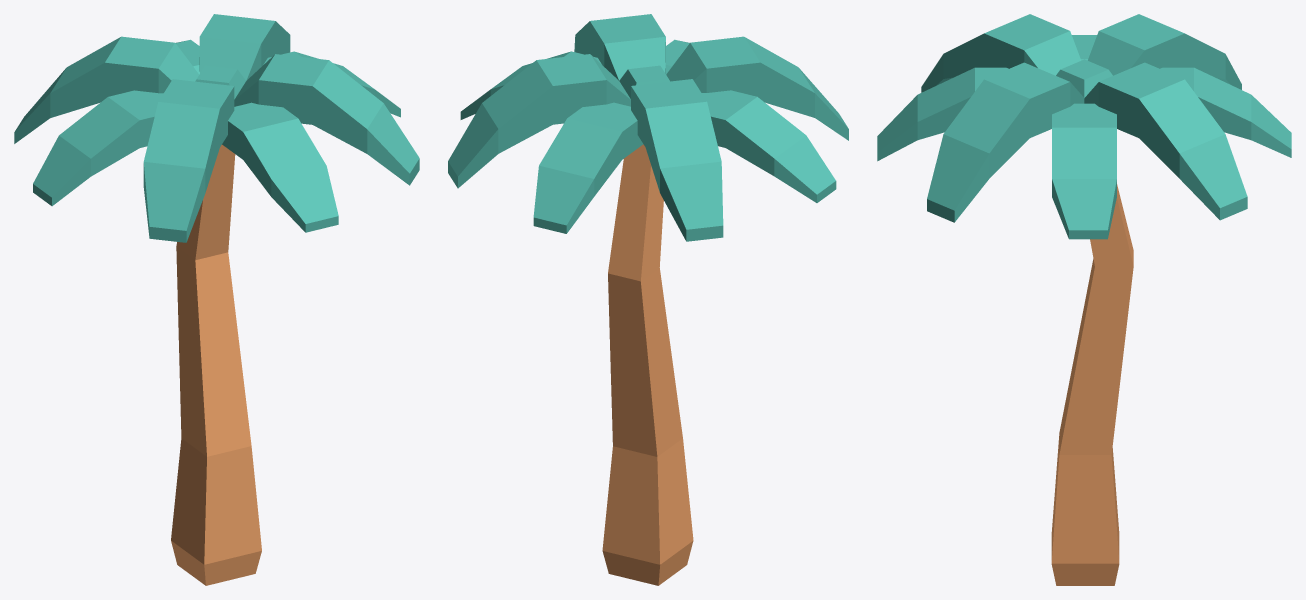
File: palmDetailed_large.fbx
3 views of the same model, side by side, from view 1: azimuth 30°, elevation 25°; view 2: azimuth 150°, elevation 25°; view 3: azimuth 270°, elevation 25° (orthographic).
Visible parts, largest first — view 1: Group 152, Group 150; view 2: Group 152, Group 150; view 3: Group 152, Group 150.
Boxes of the visible parts, box(x1,y1,x2,y2) form: Group 152: box(14, 14, 419, 242); Group 150: box(171, 144, 261, 585); Group 152: box(448, 14, 848, 241); Group 150: box(602, 144, 693, 585); Group 152: box(877, 14, 1291, 239); Group 150: box(1051, 184, 1133, 585).
Bounding box in the file's own units: 7.72 × 10.63 × 7.72.
